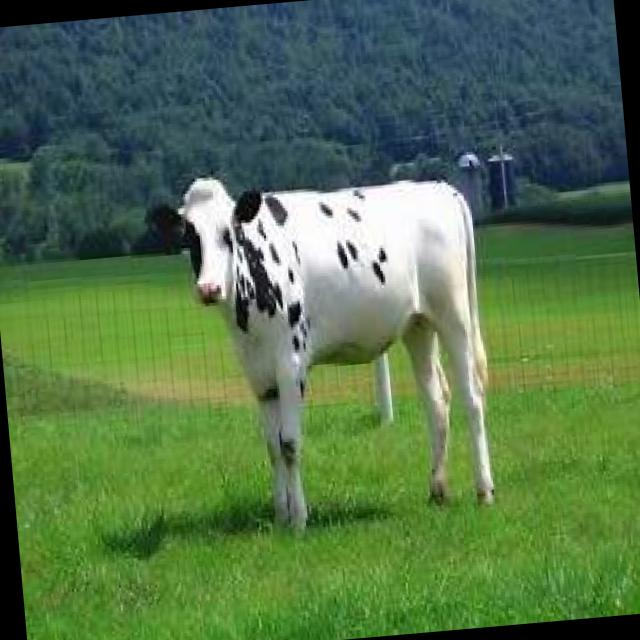animal: (140, 148, 500, 542)
